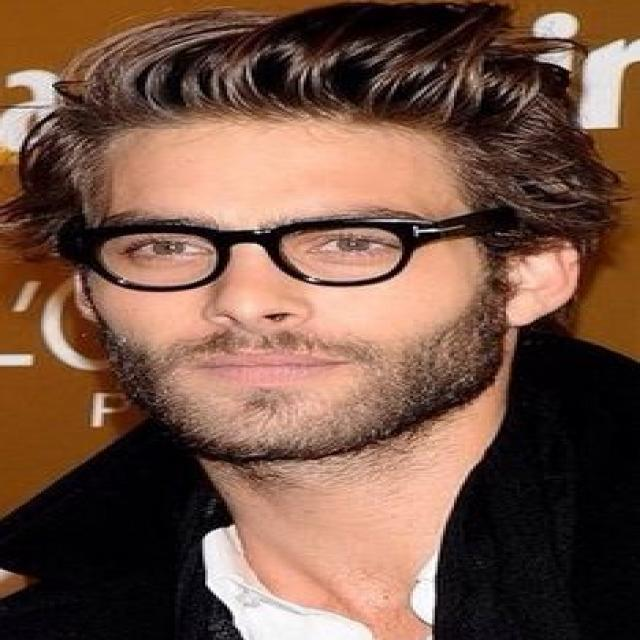Glasses: (54, 205, 518, 293)
